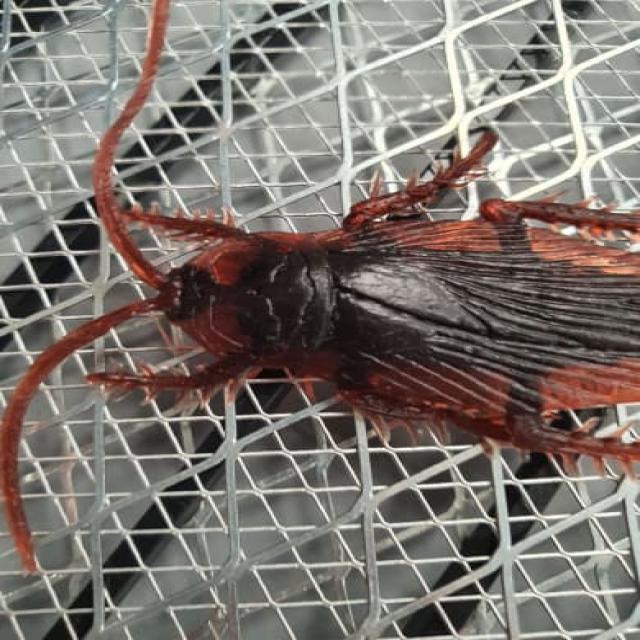Cockroach: (5, 82, 640, 530)
